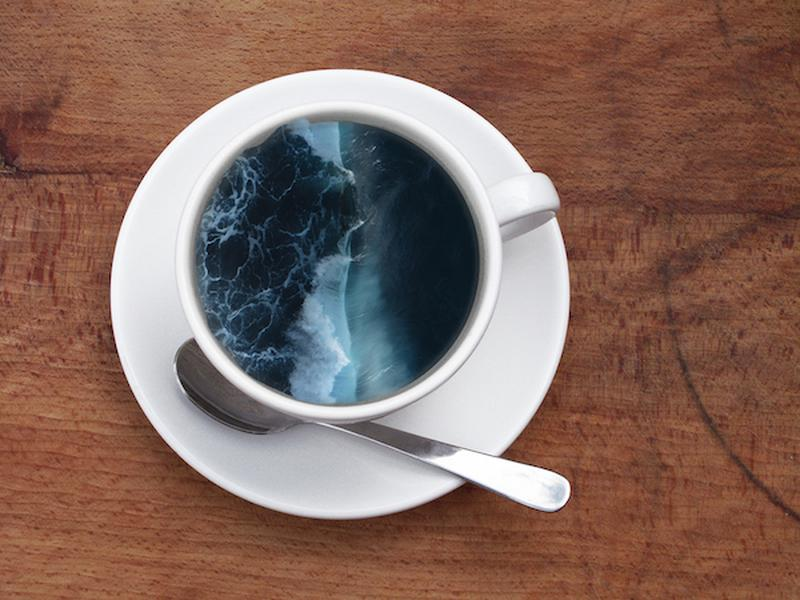cup: (102, 60, 589, 546)
